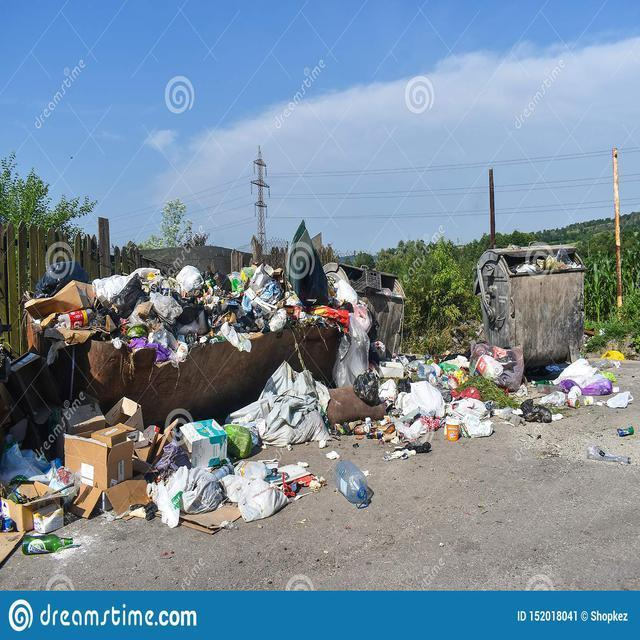garbage: (22, 262, 374, 352), (0, 394, 227, 533), (241, 355, 483, 440), (471, 342, 640, 424), (319, 450, 380, 512), (502, 247, 591, 281), (580, 438, 636, 476), (14, 532, 81, 558), (224, 420, 262, 461), (382, 437, 435, 464)
